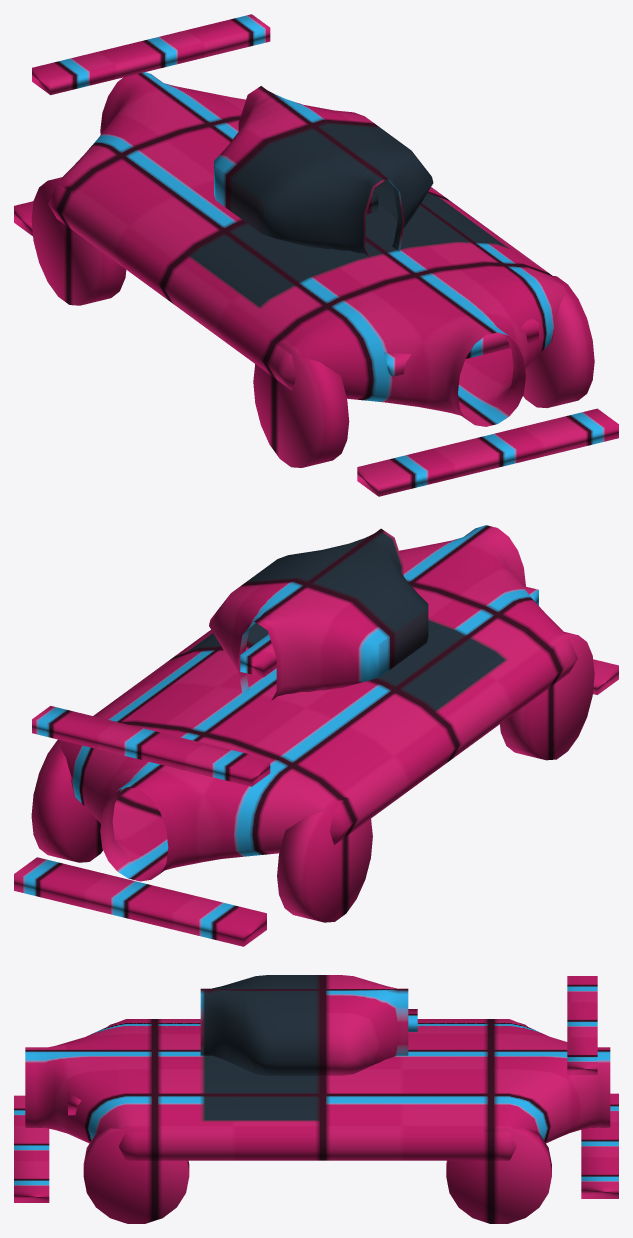
The model's file is Rival_01_WedgeCoupe.obj.
3 renders of one model, top to bottom at view 1: azimuth 30°, elevation 25°; view 2: azimuth 150°, elevation 25°; view 3: azimuth 270°, elevation 25°, orthographic. The views are drawn at different scales.
Visible parts, largest first — view 1: Rival_01_WedgeCoupe_LOD0; view 2: Rival_01_WedgeCoupe_LOD0; view 3: Rival_01_WedgeCoupe_LOD0.
Part boxes in pixels (x1,y1,x2,y2): Rival_01_WedgeCoupe_LOD0: (14, 14, 618, 496); Rival_01_WedgeCoupe_LOD0: (14, 525, 618, 946); Rival_01_WedgeCoupe_LOD0: (14, 975, 618, 1223).
Size of what is drawn, in the model's own units: 2.22 by 1.59 by 4.81.
4 materials, 4 textured.
